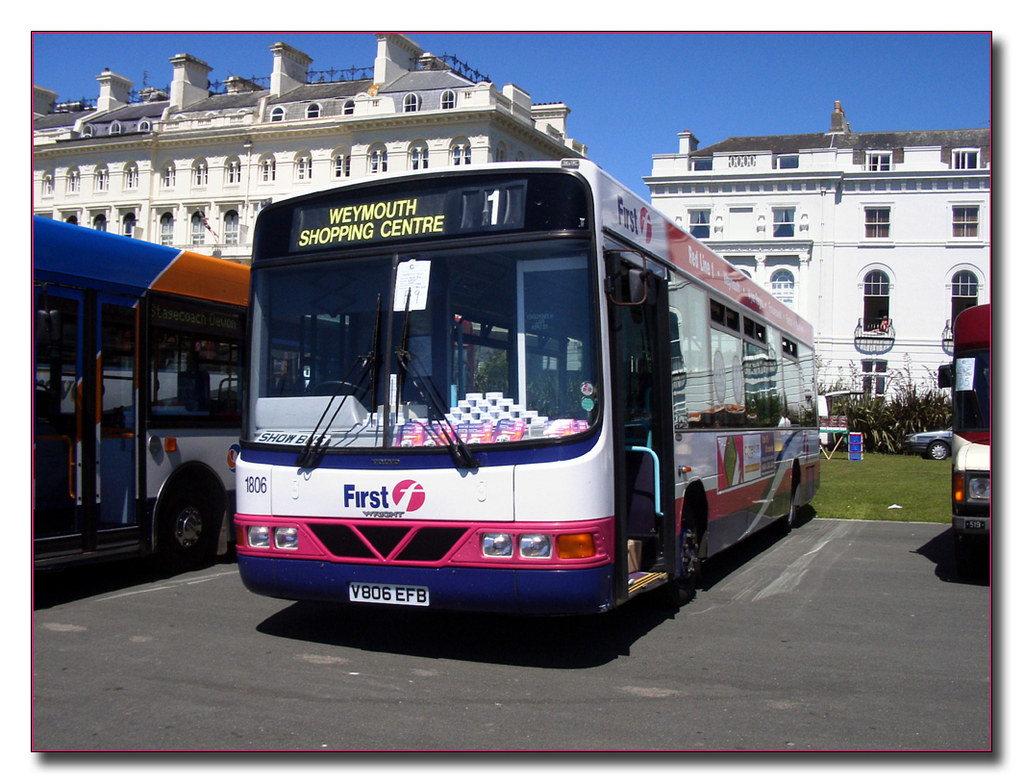Car: (901, 427, 953, 461)
